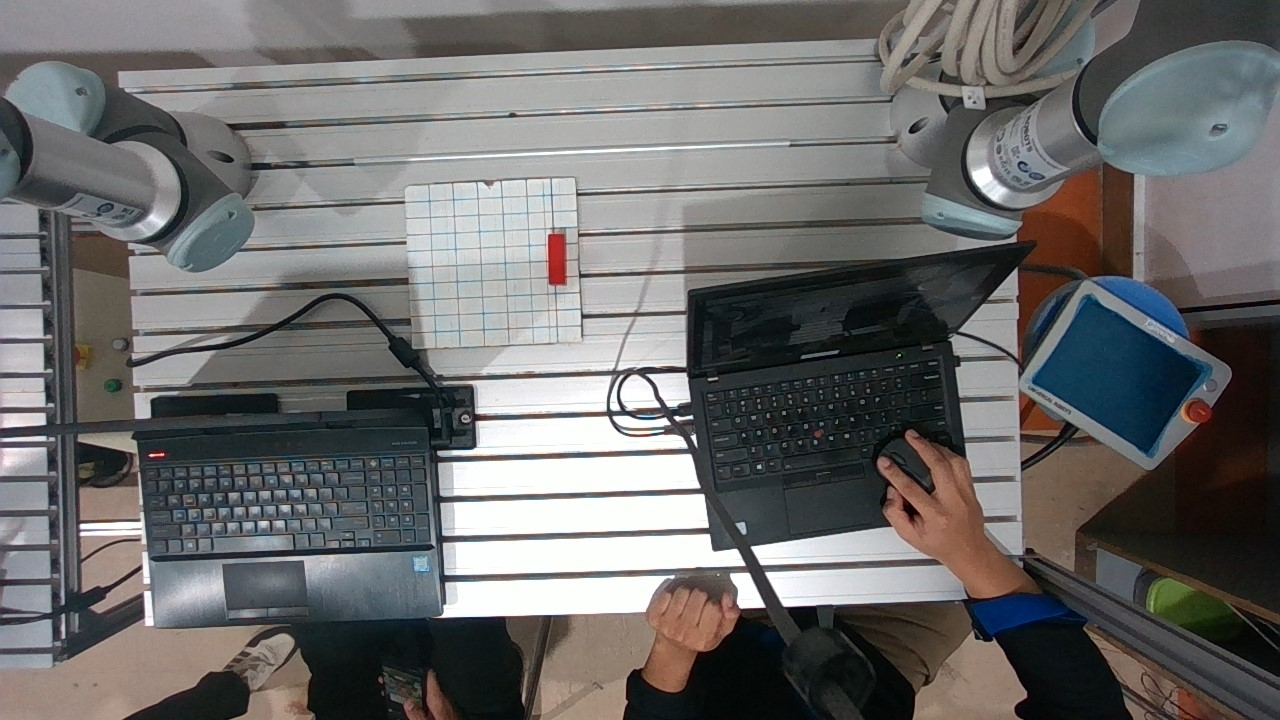box: (536, 226, 574, 291)
